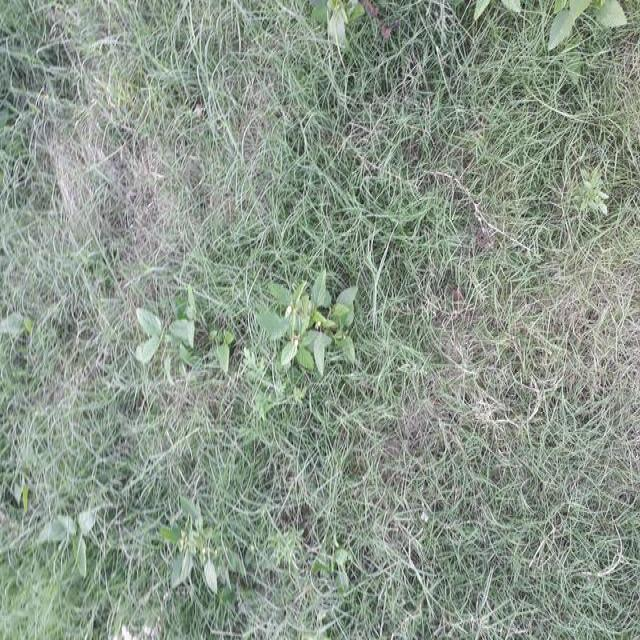weed: (258, 272, 366, 374), (119, 305, 205, 376), (169, 525, 232, 601), (42, 514, 104, 566)
